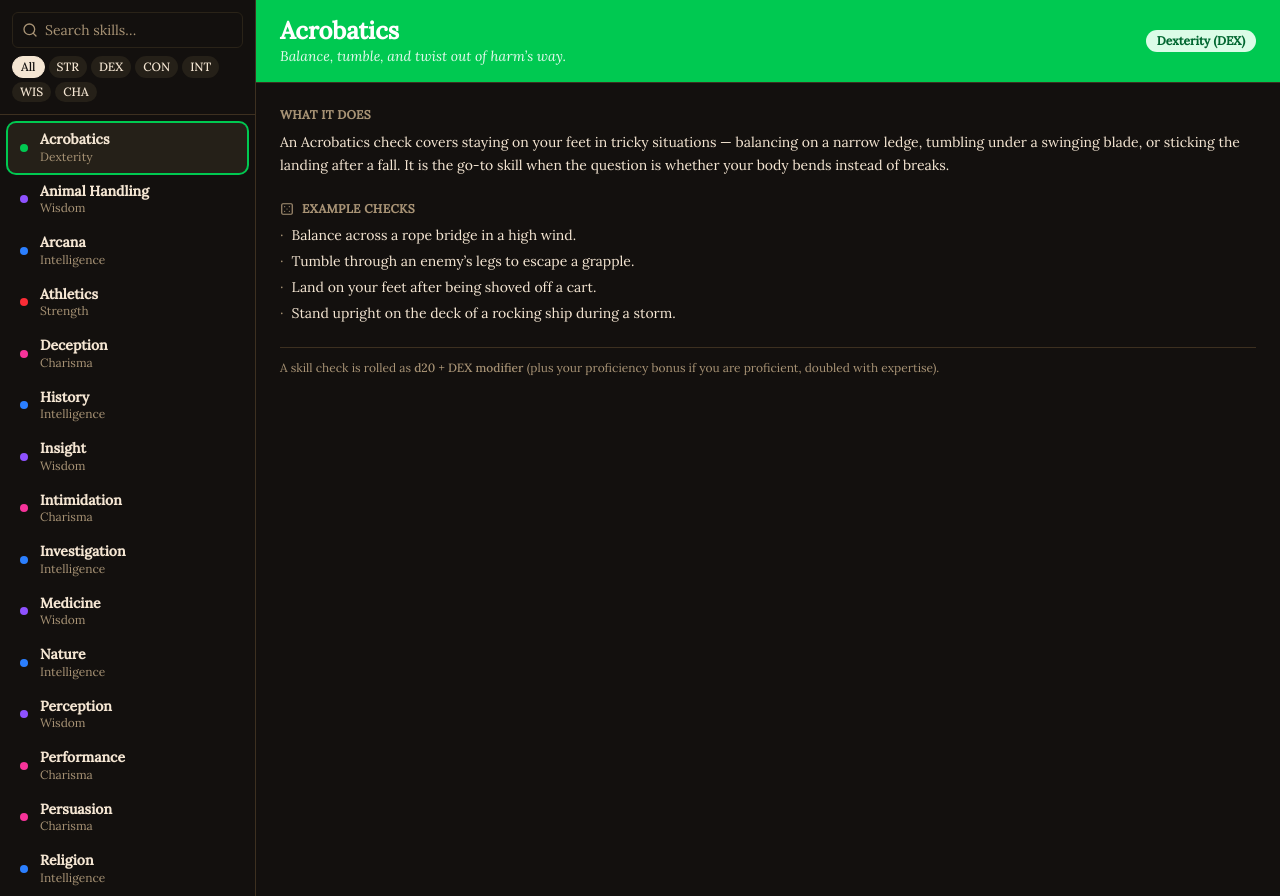
Test: SkillsTab › shows at least three example checks for the selected skill
This screenshot has width=1280, height=896.
Click the button with test id "skill-row-Athletics" at (128,302), box [8,278,247,327]
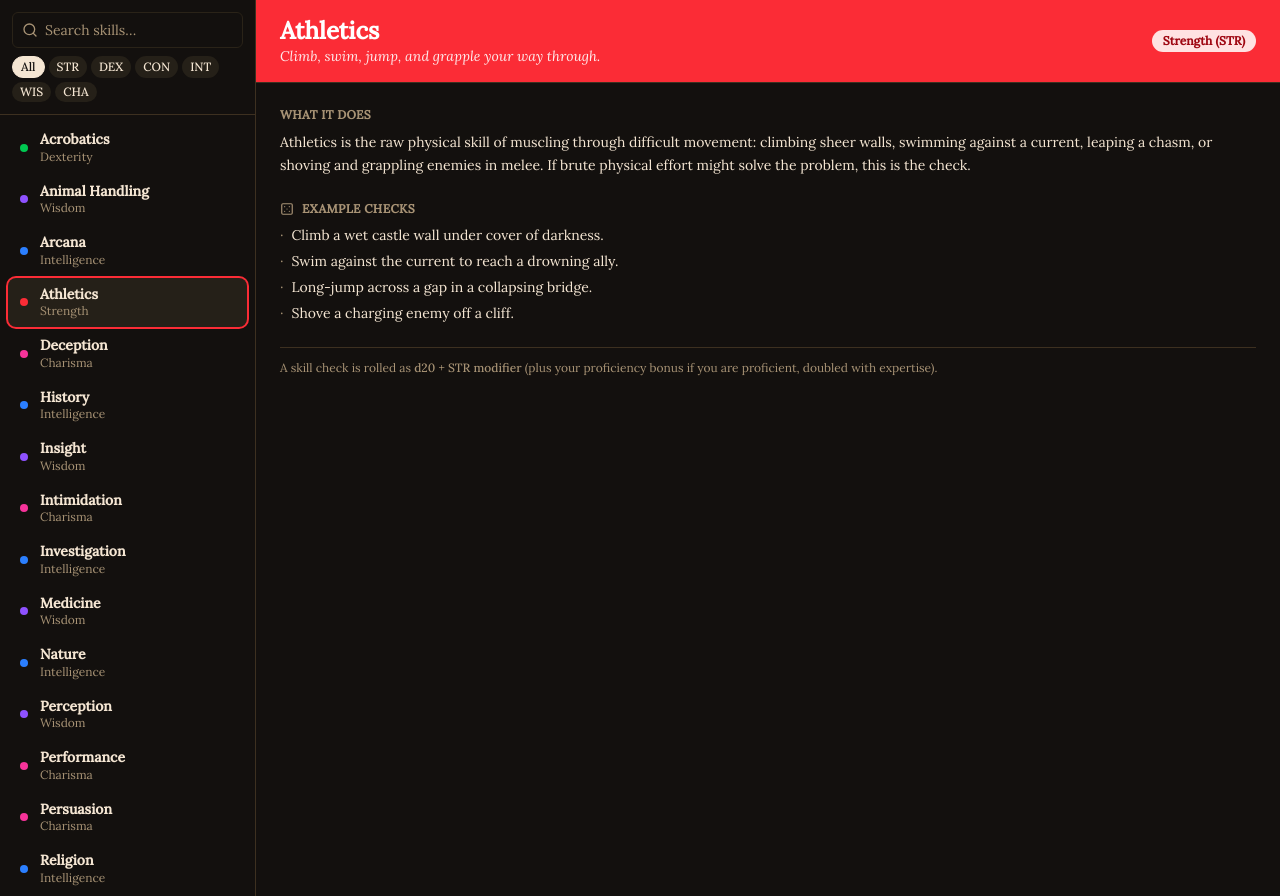
expect the element with test id "skill-detail" shows "Example checks": met, box [302,200,415,216]
expect the element with test id "skill-detail" shows "Climb a wet castle wall": met, box [292,226,604,244]
expect the element with test id "skill-detail" shows "Shove a charging enemy off a cliff": met, box [292,304,514,322]
